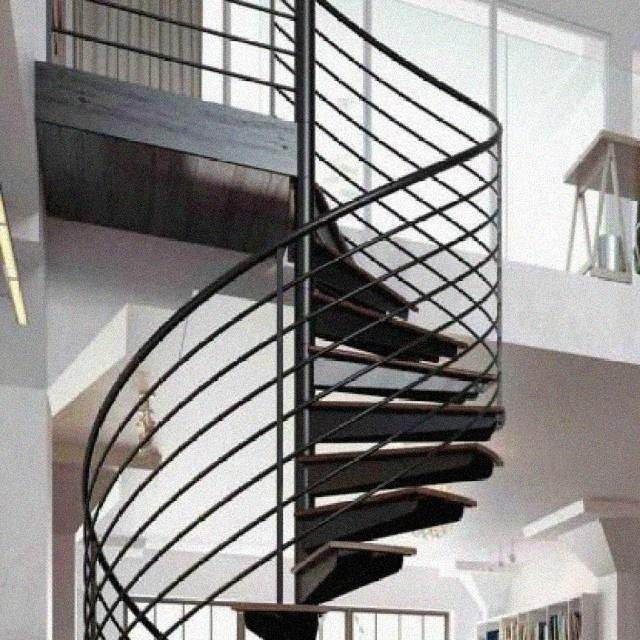stair: (33, 0, 522, 638)
